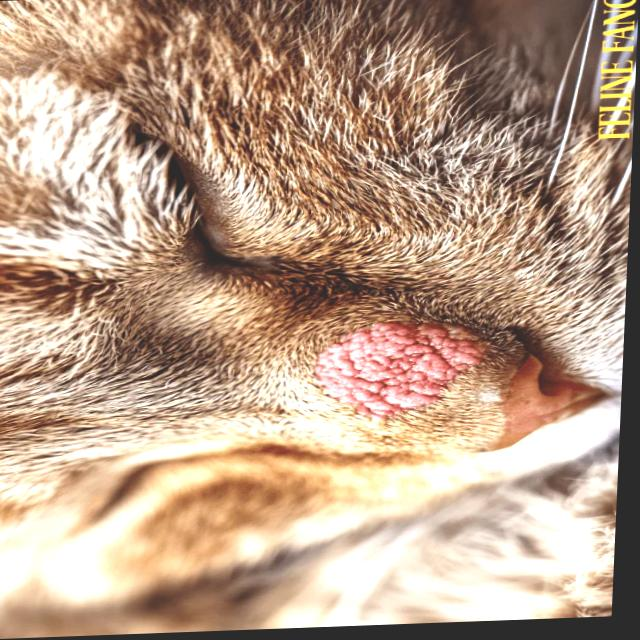lump_and_bump: (316, 323, 469, 416)
